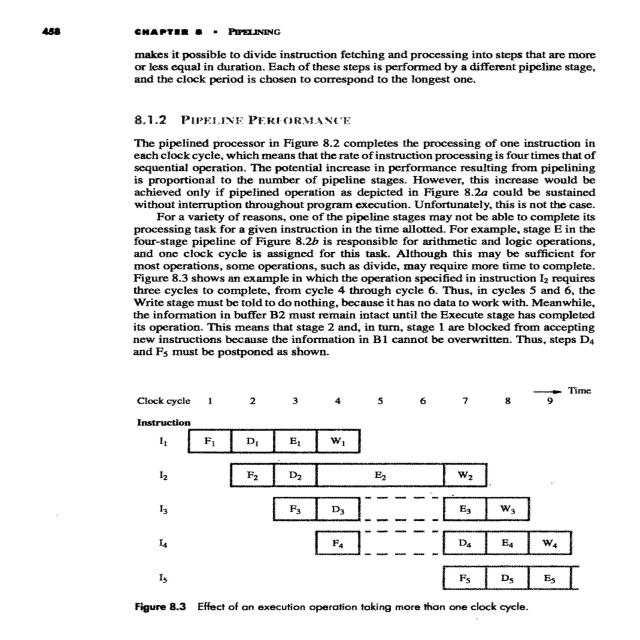diagram: (112, 382, 608, 614)
